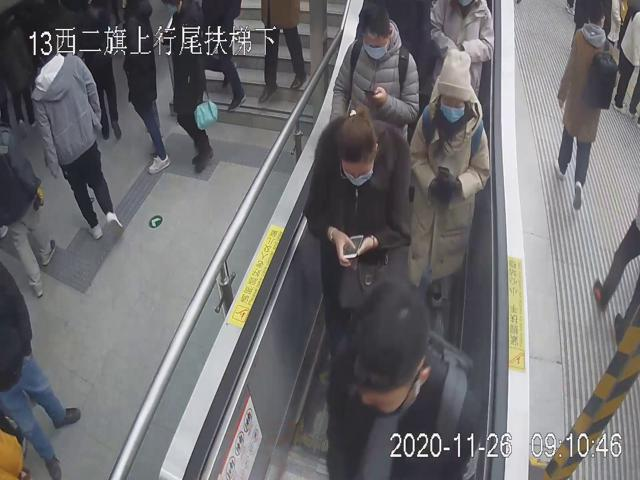person: (303, 103, 410, 376), (408, 47, 490, 315), (553, 0, 618, 208), (330, 0, 422, 130)
